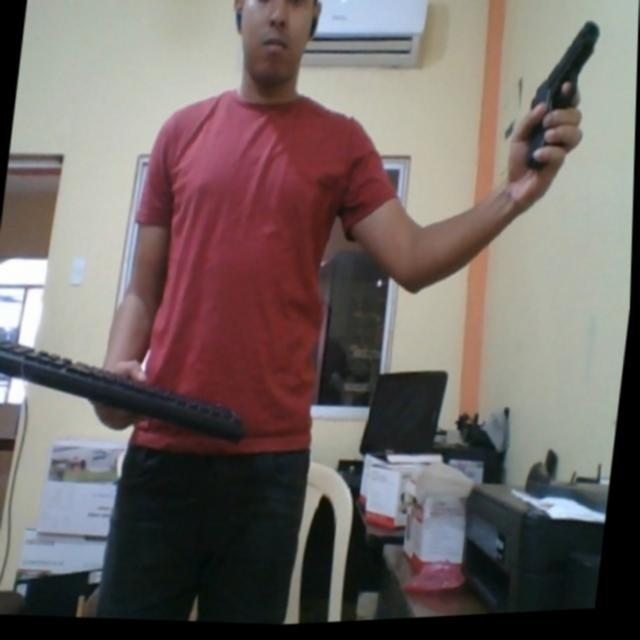weapon: (516, 16, 606, 183)
